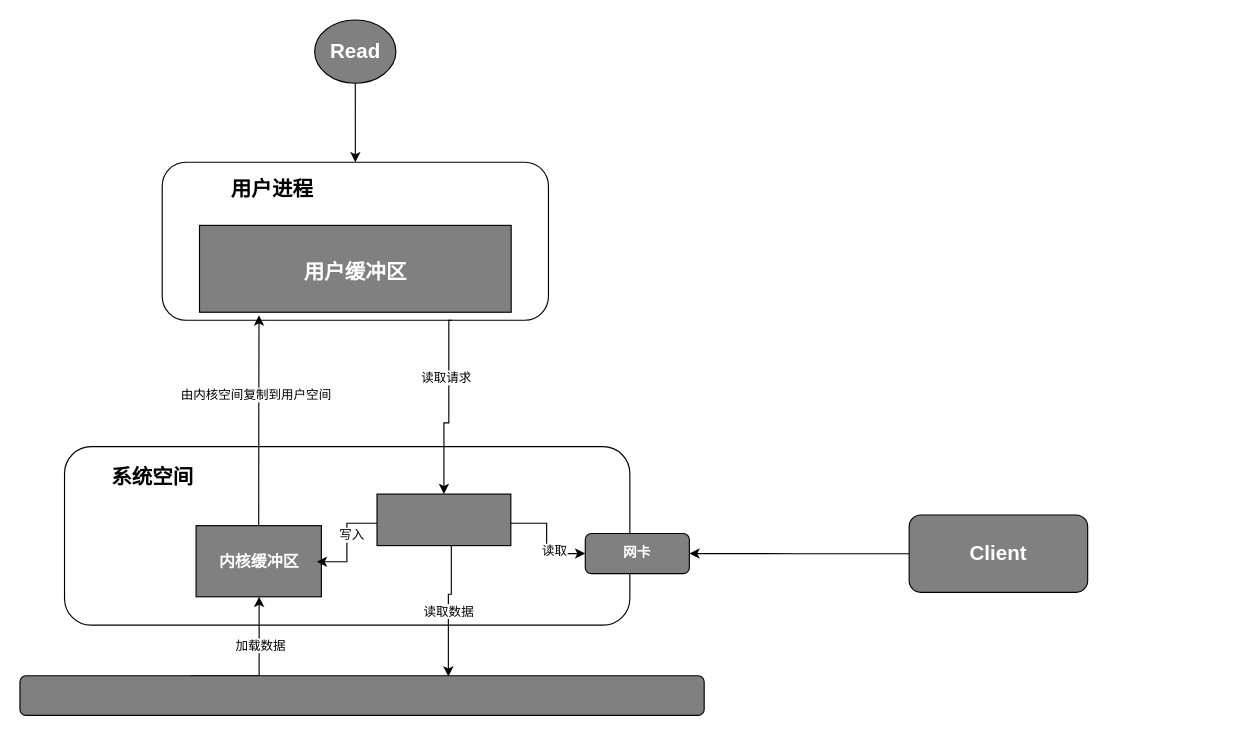
The diagram is 1260 pixels wide and 735 high, and some of its shapes have lost their labels. The centre of each missing label's shape, as x and y in pixels:
Kernel内核: pixel 443 519
磁盘文件: pixel 361 695
